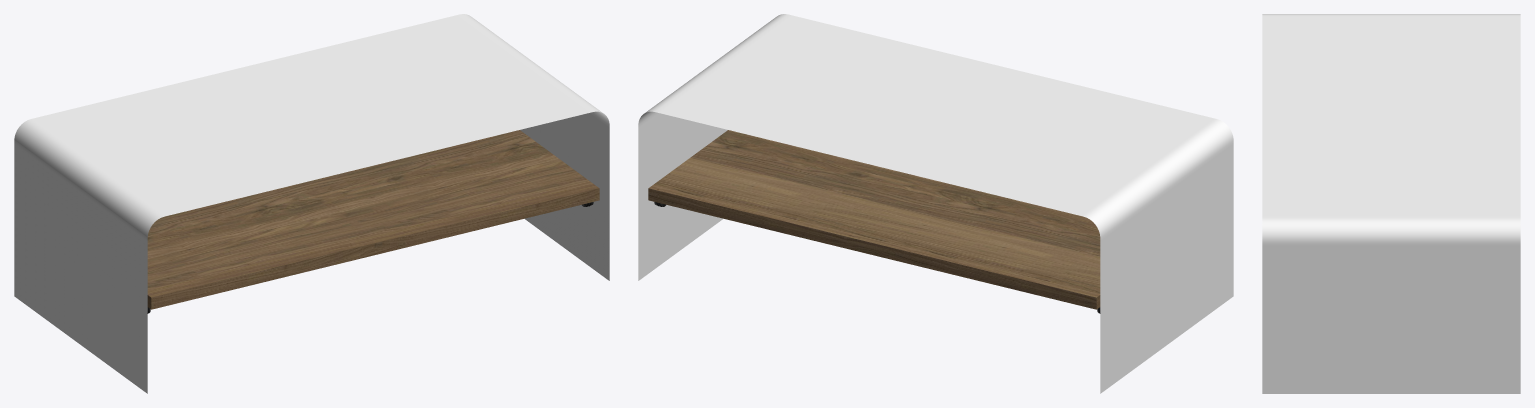
File: glass_coffee_table.glb
The picture shows the model from 3 angles, left to right: view 1: azimuth 30°, elevation 25°; view 2: azimuth 150°, elevation 25°; view 3: azimuth 270°, elevation 25°; orthographic projection. The views are drawn at different scales.
Visible parts, largest first — view 1: table.002, table.003; view 2: table.002, table.003; view 3: table.002.
Part boxes in pixels (x1,y1,x2,y2): table.002: (14, 14, 609, 393); table.003: (147, 130, 599, 309); table.002: (638, 14, 1233, 393); table.003: (648, 130, 1100, 309); table.002: (1262, 14, 1520, 393).
Size of the model in its own units: 1.2 by 0.43 by 0.6.
Materials: 4 (3 with a texture image).
